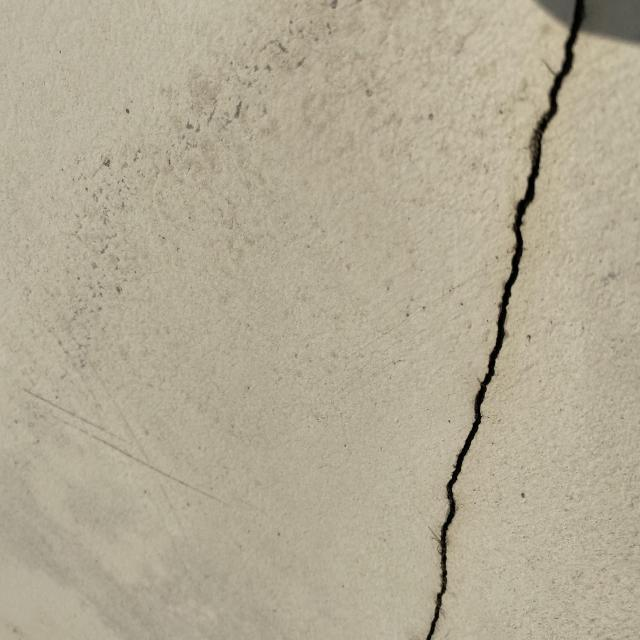SurfaceCrack: (386, 0, 631, 640), (2, 362, 231, 520)
